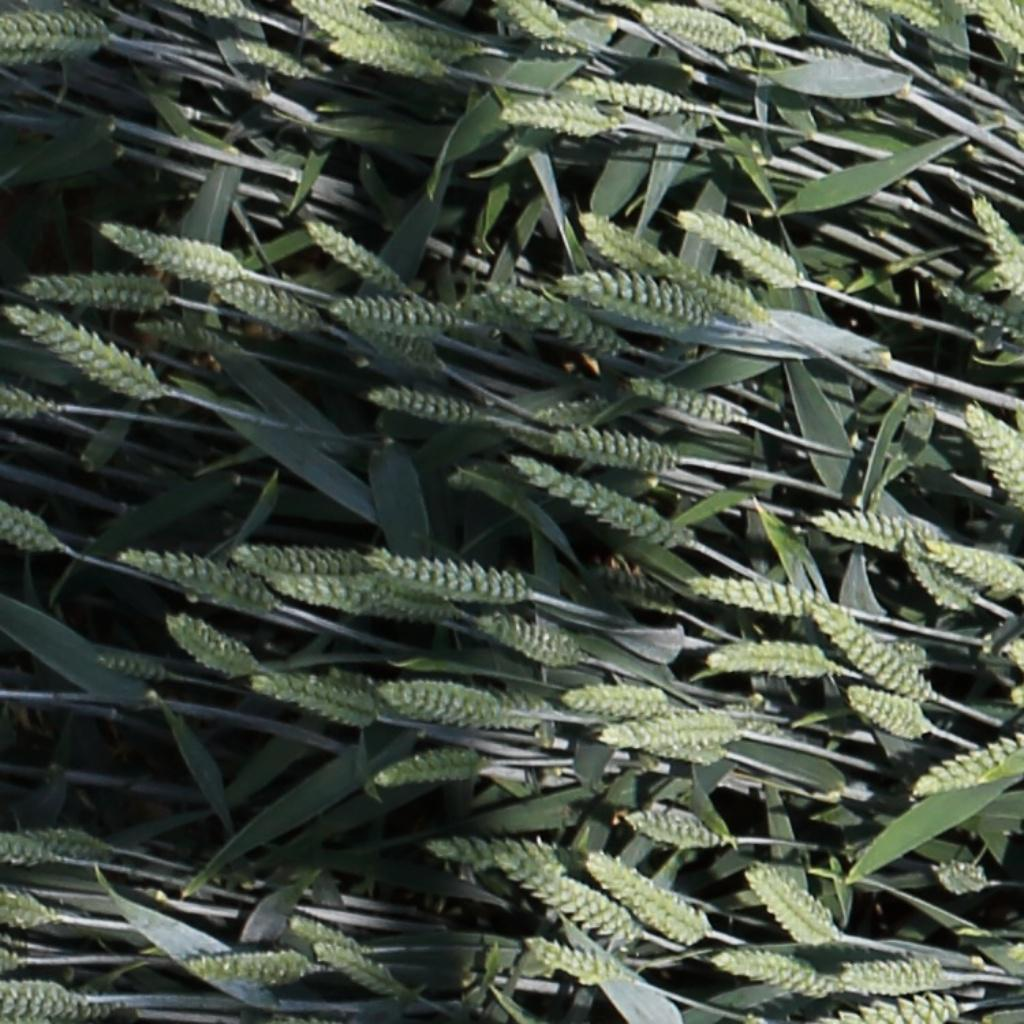0-0: (0, 301, 161, 402), (507, 454, 681, 546), (585, 851, 715, 951), (496, 857, 632, 944), (813, 607, 931, 705), (260, 574, 464, 629), (678, 208, 806, 290), (481, 278, 621, 352), (660, 244, 771, 335), (558, 273, 716, 335), (99, 221, 241, 285), (370, 546, 525, 604), (742, 865, 844, 950), (910, 720, 1024, 796), (120, 550, 271, 607), (961, 393, 1023, 527), (380, 677, 533, 729), (703, 946, 844, 1000), (303, 217, 402, 292), (688, 572, 842, 618), (599, 707, 748, 751), (344, 314, 444, 378), (576, 211, 667, 281), (929, 275, 1024, 342), (21, 271, 176, 312), (808, 506, 948, 551), (245, 674, 375, 722), (203, 275, 316, 329), (843, 683, 930, 747), (134, 310, 238, 363), (336, 297, 464, 340), (547, 426, 676, 468), (0, 979, 123, 1023), (330, 35, 446, 79), (477, 617, 579, 667), (966, 188, 1024, 275), (629, 376, 741, 421), (706, 640, 834, 679), (927, 542, 1024, 593), (421, 838, 570, 871), (899, 544, 970, 613), (493, 99, 614, 139), (810, 0, 894, 57), (644, 2, 745, 49), (165, 618, 248, 675), (522, 937, 623, 983), (372, 746, 490, 785), (567, 76, 689, 113), (311, 943, 397, 995), (817, 992, 955, 1024), (379, 16, 479, 60), (843, 959, 962, 993), (562, 685, 673, 721), (623, 808, 720, 849), (187, 948, 307, 981), (0, 14, 114, 48), (595, 565, 675, 613), (233, 549, 375, 576), (367, 390, 488, 421), (498, 1, 585, 43), (0, 500, 62, 557), (971, 0, 1024, 65), (640, 735, 732, 768), (291, 0, 382, 33), (30, 993, 129, 1022), (230, 39, 307, 76), (13, 824, 107, 854), (283, 918, 356, 955), (0, 38, 97, 65), (727, 0, 797, 35), (0, 383, 64, 420), (1, 889, 55, 930), (91, 651, 162, 681), (932, 860, 984, 897), (0, 838, 59, 868), (182, 0, 256, 23), (888, 0, 940, 28), (533, 401, 604, 420)
